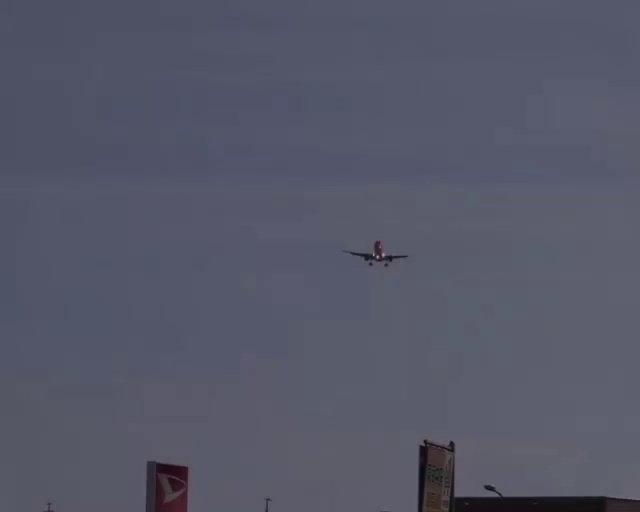AIRPLANE: (340, 239, 410, 267)
